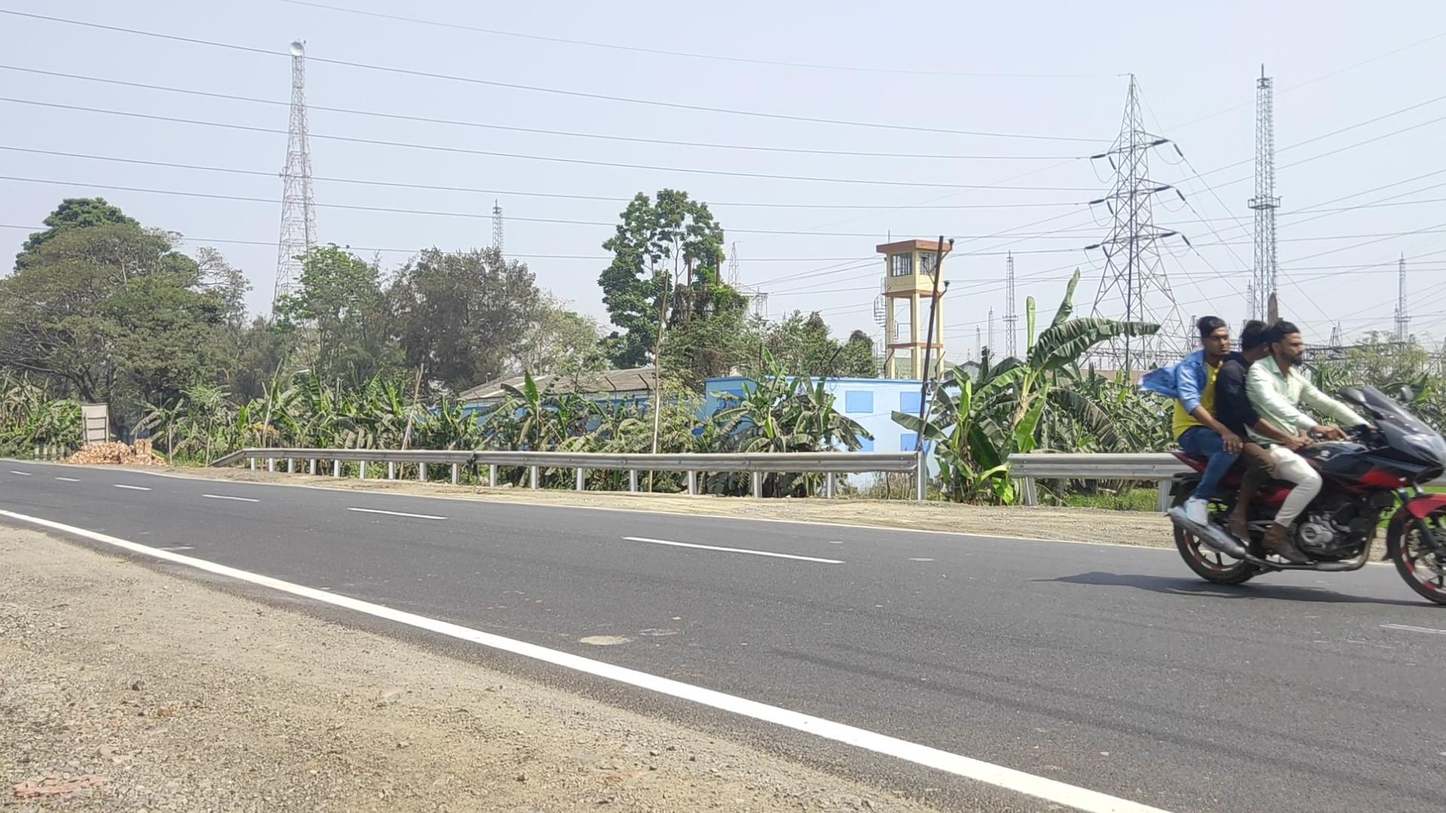bike: (1155, 315, 1446, 608)
